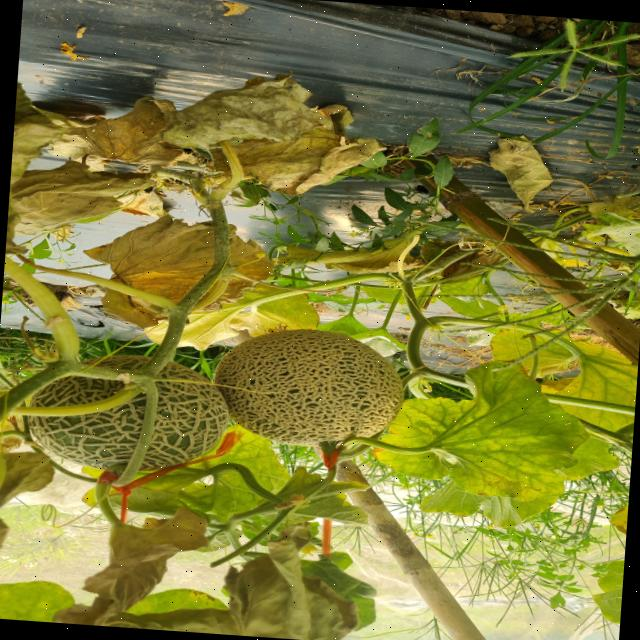melon: (213, 327, 402, 445), (26, 391, 145, 468), (138, 379, 228, 469), (29, 374, 122, 406), (158, 361, 207, 380), (99, 354, 148, 369)
